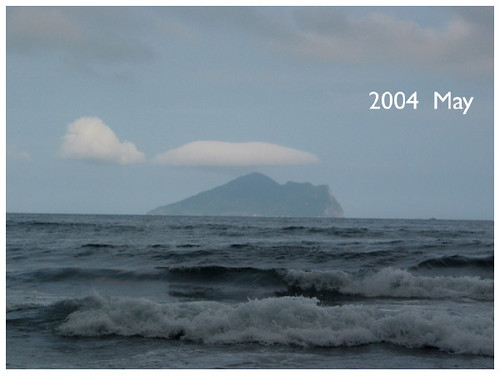turtleIsland: (145, 171, 346, 218)
